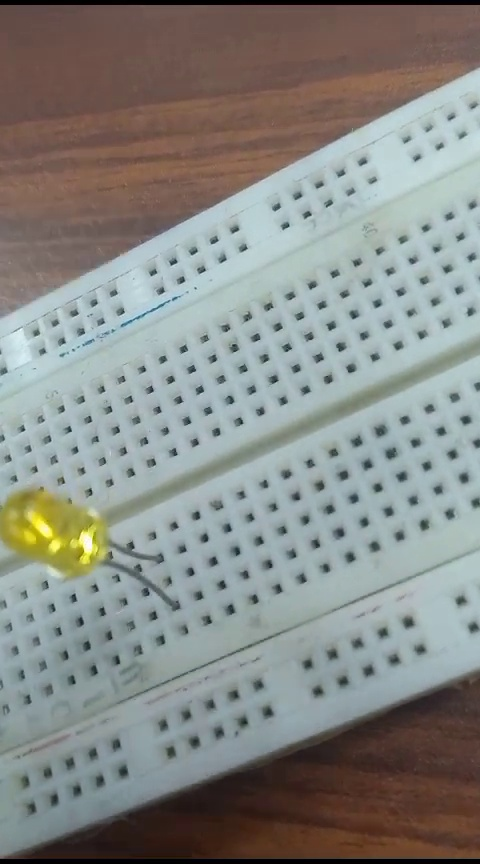LED: (6, 479, 171, 619)
